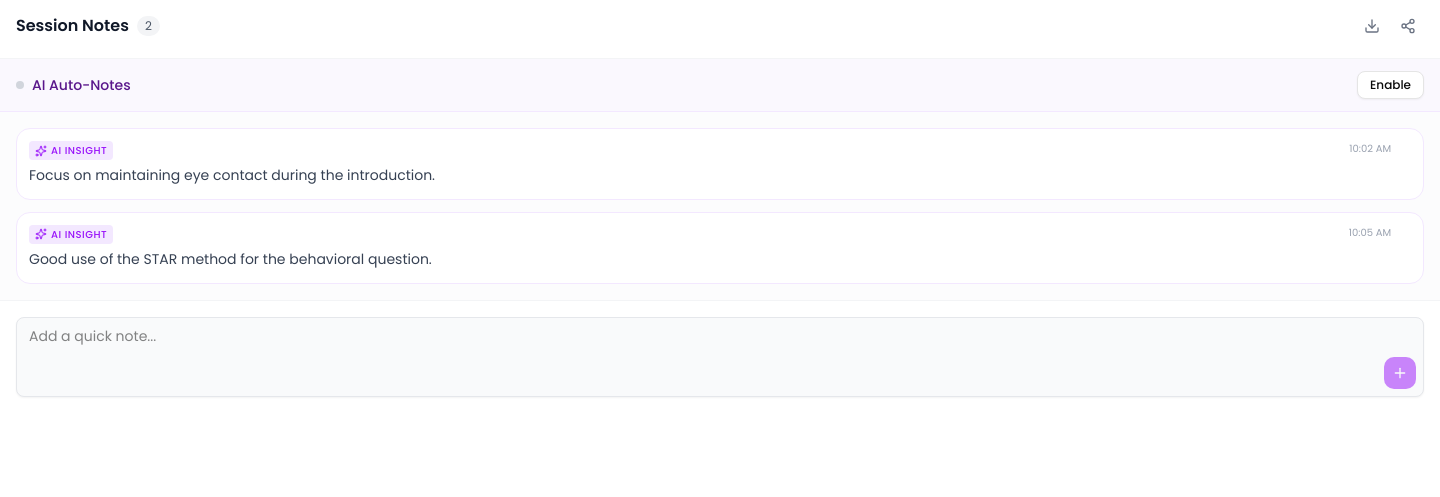
Scenario: NotesPanel › allows adding a new note
The image size is (1440, 497).
Type "My new test note" into the text box with placeholder "Add a quick note..." at (720, 356), box [16,316,1424,396]
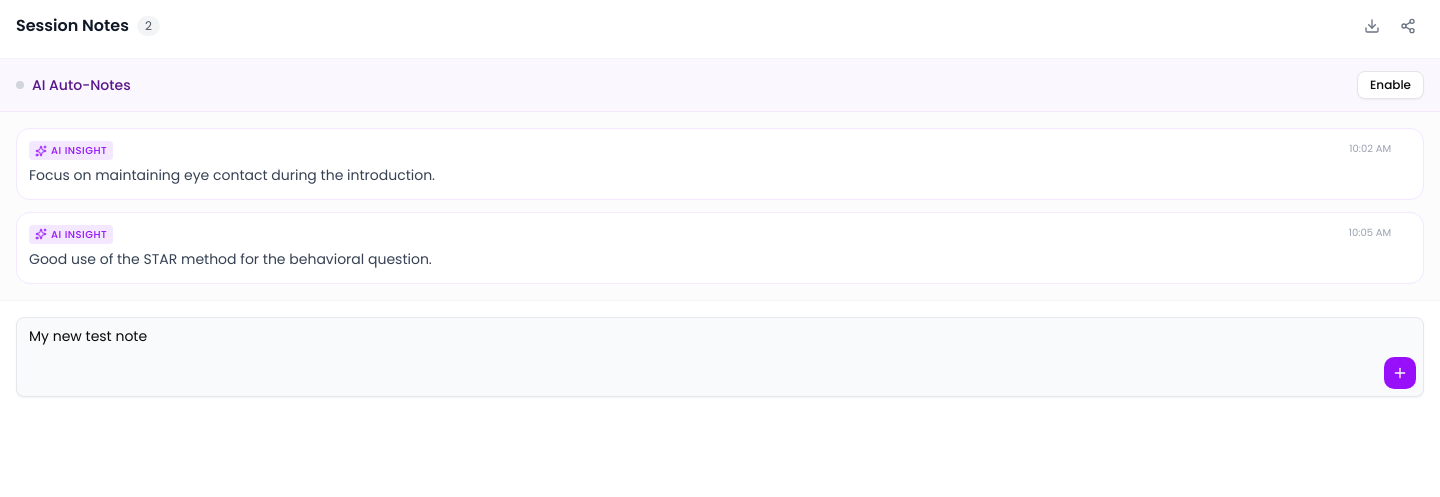
Click the button with test id "add-note-button" at (1400, 372), box [1384,356,1416,388]
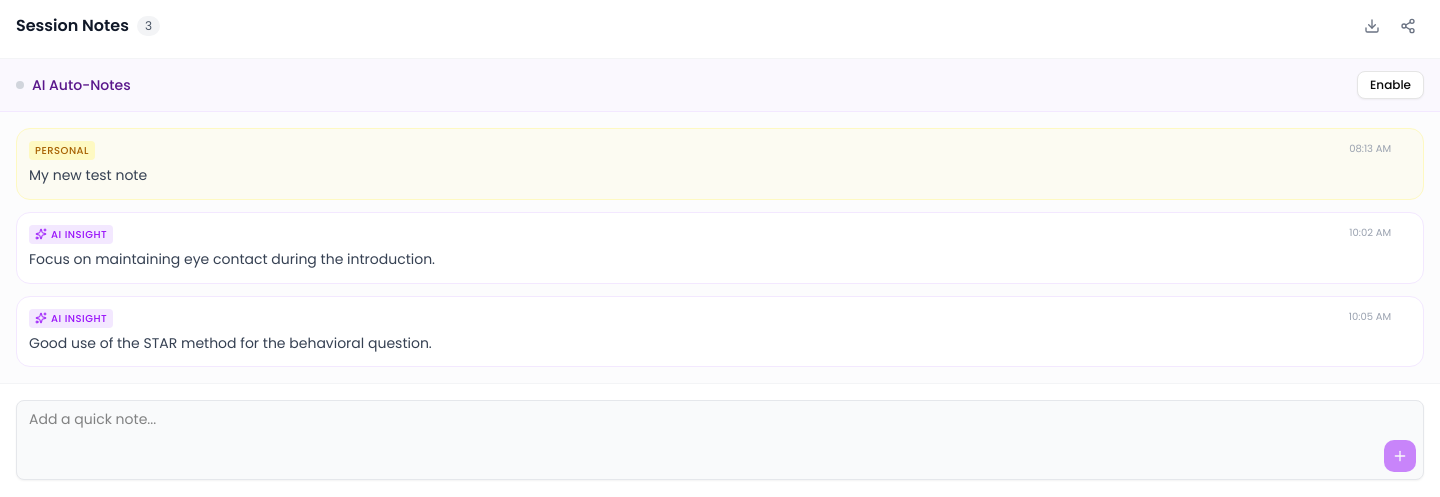
Now the text "My new test note" is shown, box [29,165,147,185]
